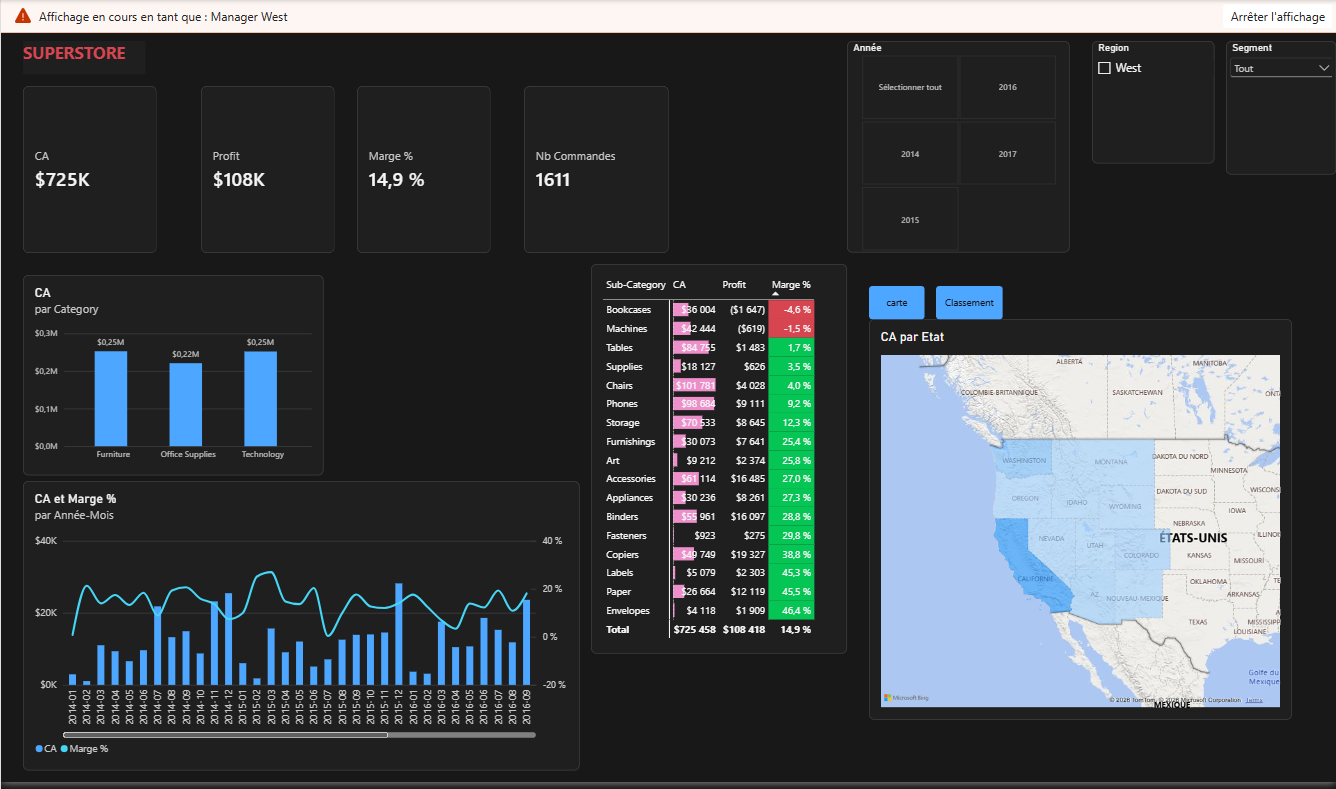

The dashboard page shown, as its layout file describes it:
{"tool":"powerbi","page":{"name":"Vue d'ensemble","canvas":[1920,1080],"ordinal":0},"visuals":[{"type":"cardVisual","title":"KPI CA","fields":{"Data":["Mesures.CA"]},"box":[32,80,192,240],"z":0},{"type":"cardVisual","title":"KPI Profit","fields":{"Data":["Mesures.Profit"]},"box":[288,80,192,240],"z":1000},{"type":"cardVisual","title":"KPI Marge","fields":{"Data":["Mesures.Marge %"]},"box":[512,80,192,240],"z":2000},{"type":"cardVisual","title":"KPI Commandes","fields":{"Data":["Mesures.Nb Commandes"]},"box":[752,80,208,240],"z":3000},{"type":"lineClusteredColumnComboChart","fields":{"Category":["Calendrier.Année-Mois"],"Y":["Mesures.CA"],"Y2":["Mesures.Marge %"]},"box":[32,648,800,416],"z":4000},{"type":"clusteredColumnChart","fields":{"Category":["Dim_produit.Category","Dim_produit.Sub-Category"],"Y":["Mesures.CA"]},"box":[32,352,432,288],"z":5000},{"type":"filledMap","title":"CA par Etat","fields":{"Category":["Dim-Geo.State"]},"box":[1248,416,608,576],"z":6000},{"type":"slicer","fields":{"Values":["Calendrier.Année"]},"box":[1216,16,320,304],"z":7000},{"type":"slicer","fields":{"Values":["Dim-Geo.Region"]},"box":[1568,16,176,176],"z":8000},{"type":"slicer","fields":{"Values":["Dim_Client.Segment"]},"box":[1760,16,160,192],"z":9000},{"type":"pivotTable","fields":{"Rows":["Dim_produit.Sub-Category"],"Values":["Mesures.CA","Mesures.Profit","Mesures.Marge %"]},"box":[848,336,368,560],"z":10000},{"type":"textbox","box":[32,16,176,48],"z":11000},{"type":"actionButton","box":[1248,368,80,48],"z":13000},{"type":"actionButton","box":[1344,368,96,48],"z":14000}]}

Visuals, with their boxes on the page's 1920x1080 design canvas (x1, y1, x2, y2). These are canvas units, not pixel positions in the 1336x789 screenshot, which may show the page scaled, cropped or inside an application window:
"KPI CA" cardVisual: [x1=32, y1=80, x2=224, y2=320]
"KPI Profit" cardVisual: [x1=288, y1=80, x2=480, y2=320]
"KPI Marge" cardVisual: [x1=512, y1=80, x2=704, y2=320]
"KPI Commandes" cardVisual: [x1=752, y1=80, x2=960, y2=320]
lineClusteredColumnComboChart - Calendrier.Année-Mois x Mesures.CA: [x1=32, y1=648, x2=832, y2=1064]
clusteredColumnChart - Dim_produit.Category x Dim_produit.Sub-Category: [x1=32, y1=352, x2=464, y2=640]
"CA par Etat" filledMap: [x1=1248, y1=416, x2=1856, y2=992]
slicer - Calendrier.Année: [x1=1216, y1=16, x2=1536, y2=320]
slicer - Dim-Geo.Region: [x1=1568, y1=16, x2=1744, y2=192]
slicer - Dim_Client.Segment: [x1=1760, y1=16, x2=1920, y2=208]
pivotTable - Dim_produit.Sub-Category x Mesures.CA: [x1=848, y1=336, x2=1216, y2=896]
textbox: [x1=32, y1=16, x2=208, y2=64]
actionButton: [x1=1248, y1=368, x2=1328, y2=416]
actionButton: [x1=1344, y1=368, x2=1440, y2=416]
